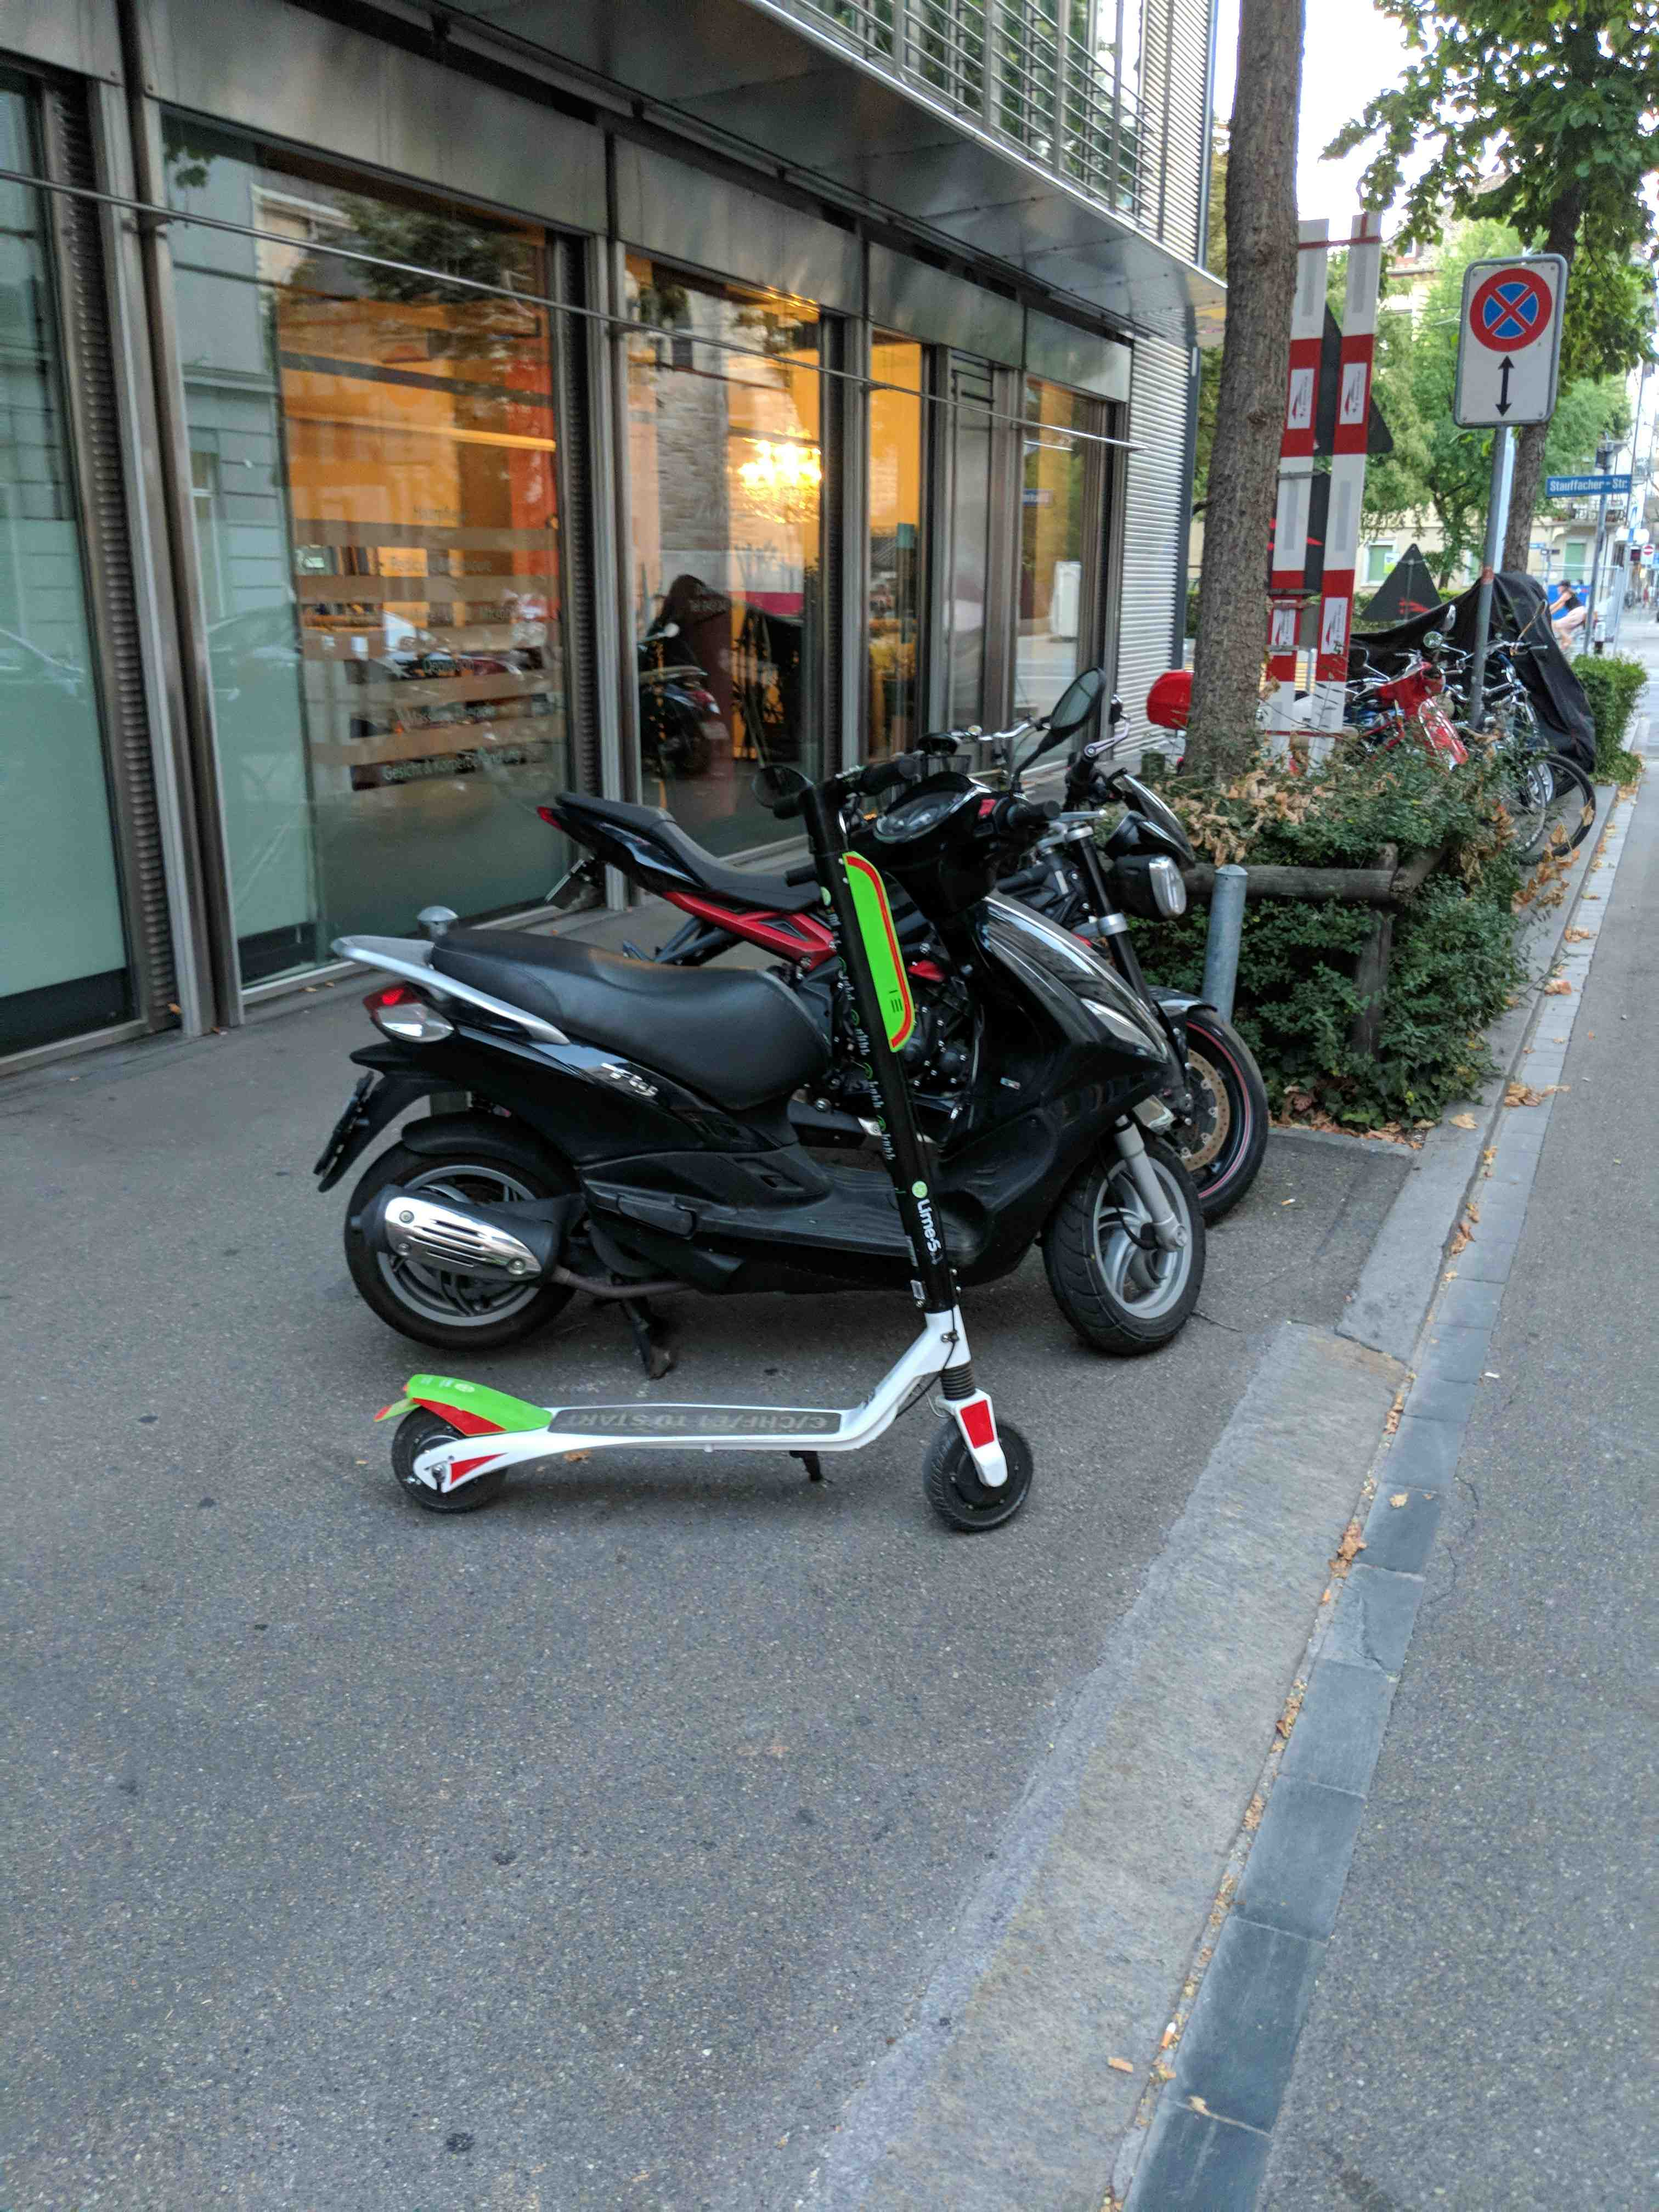scooter: (380, 763, 1073, 1581)
